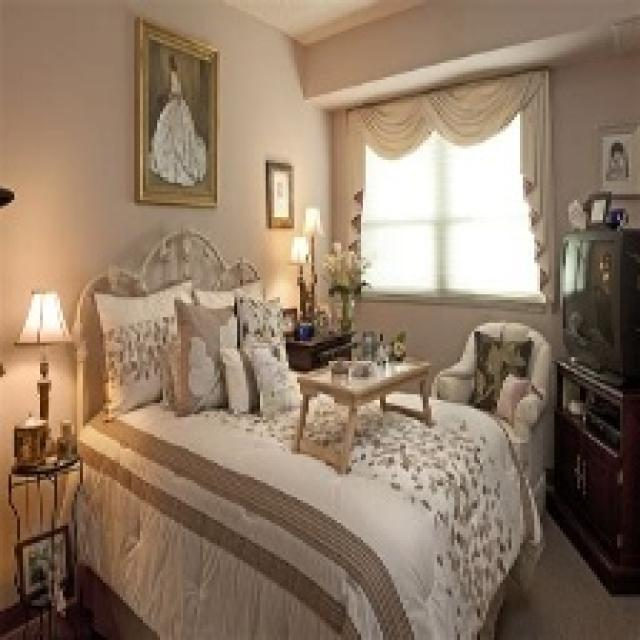Bed: (69, 226, 548, 637)
